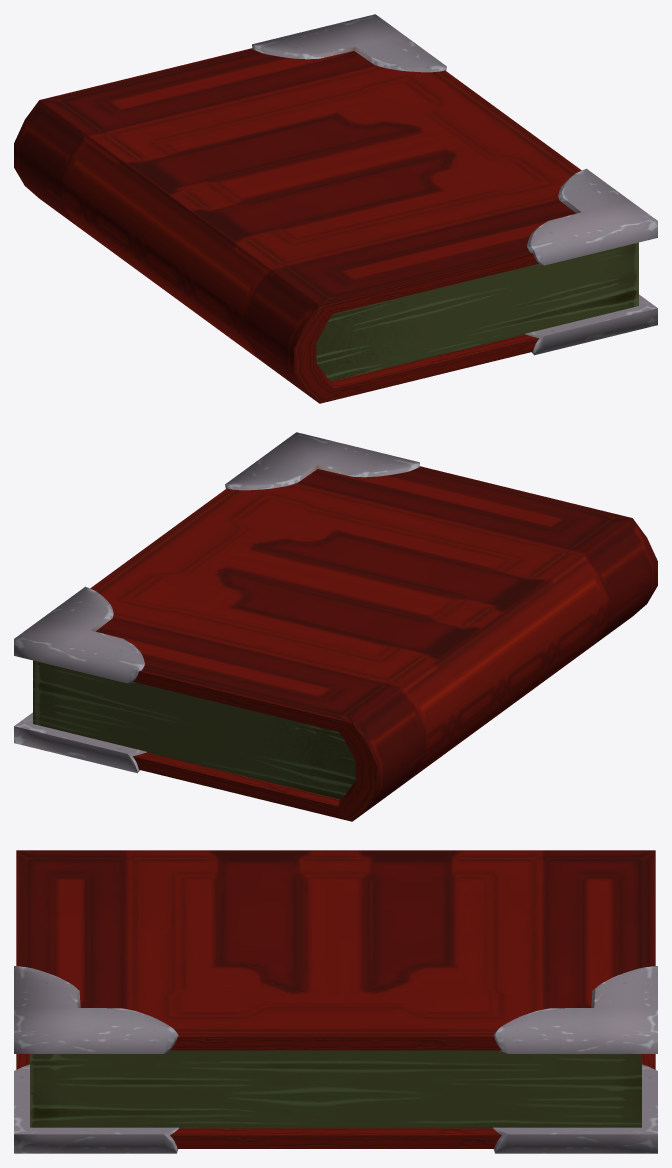
Rendered from Book_7.gltf.
The picture shows the model from 3 angles, top to bottom: view 1: azimuth 30°, elevation 25°; view 2: azimuth 150°, elevation 25°; view 3: azimuth 270°, elevation 25°; orthographic projection. The views are drawn at different scales.
Visible parts, largest first — view 1: Book_7; view 2: Book_7; view 3: Book_7.
Part boxes in pixels (x1=…): Book_7: x1=14, y1=14, x2=657, y2=403; Book_7: x1=14, y1=432, x2=657, y2=821; Book_7: x1=14, y1=850, x2=657, y2=1153.
Bounding box in the file's own units: 0.247 × 0.0679 × 0.3333.
2 materials, 2 textured.
